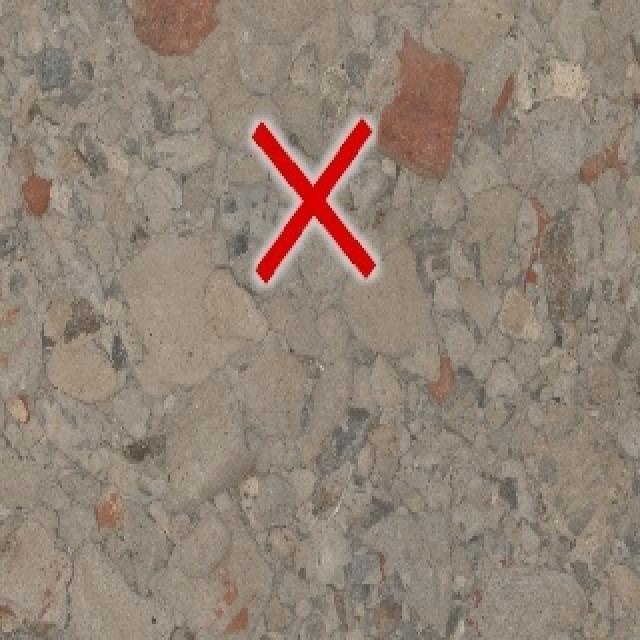x_marker: (251, 119, 375, 281)
